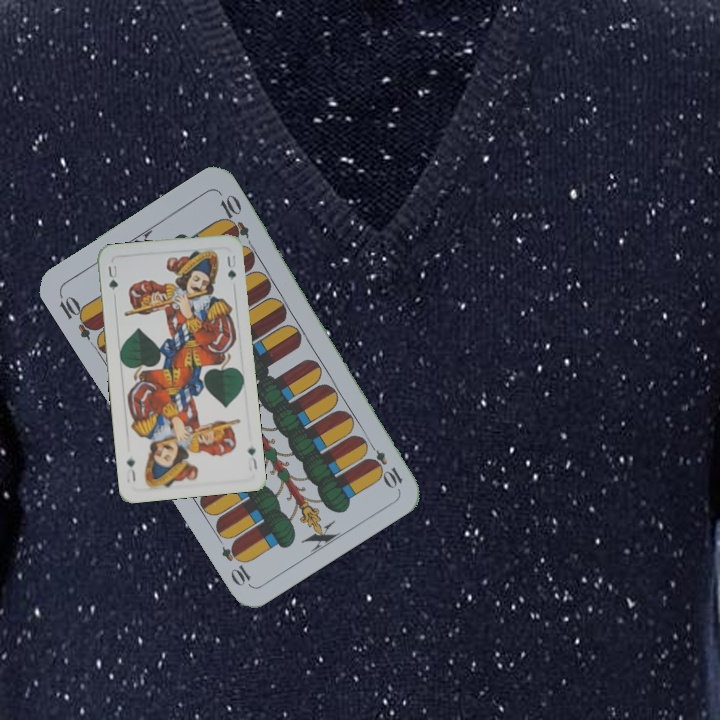E10: (55, 289, 101, 342), (362, 437, 406, 491)
GU: (104, 261, 121, 293), (243, 443, 260, 474)
